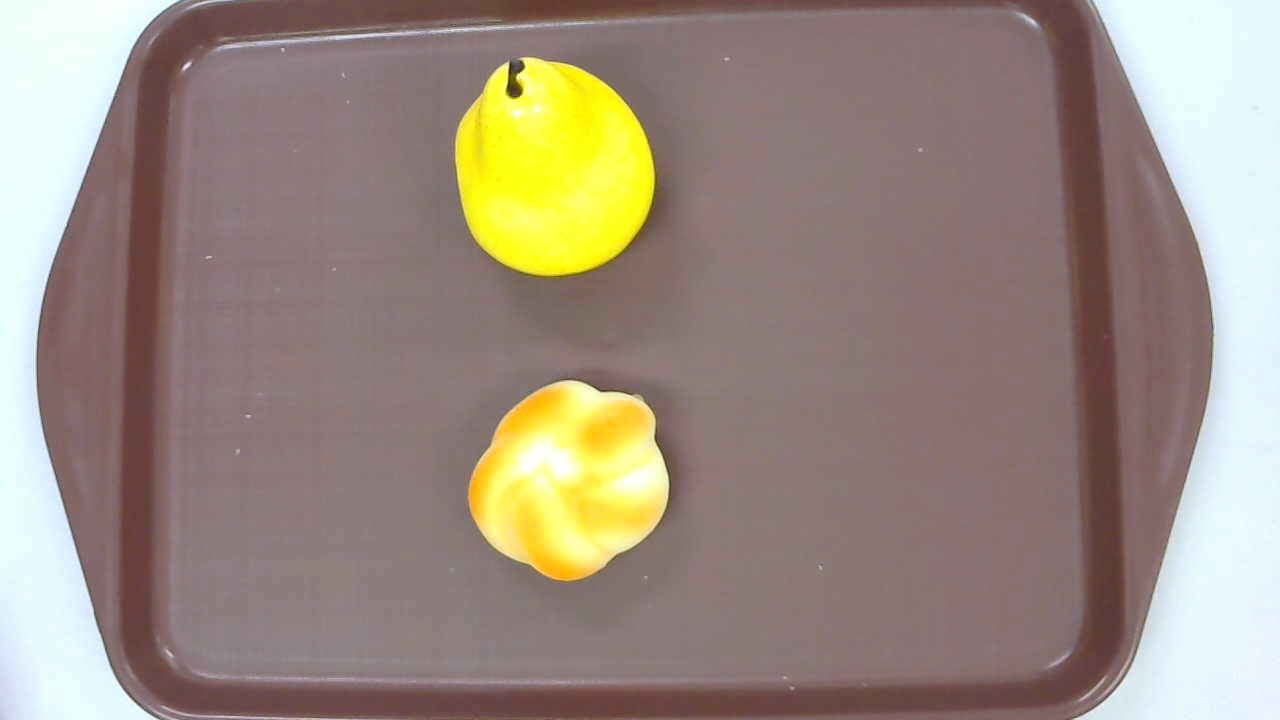twist bread: (466, 379, 671, 582)
yellow pear: (455, 56, 656, 280)
